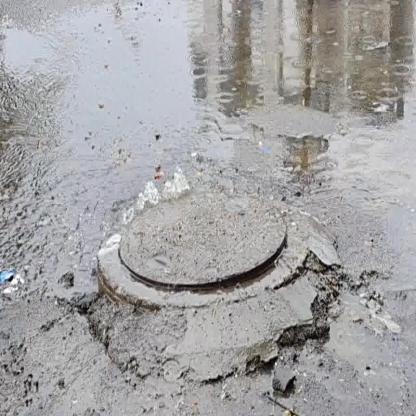drainage overflow-repair-: (60, 171, 295, 299)
